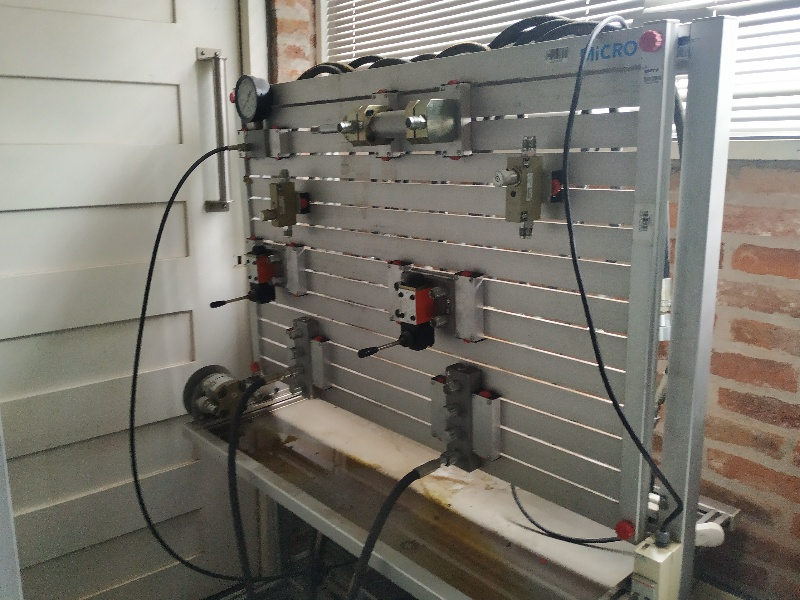Tablero 5: (234, 82, 640, 514)
